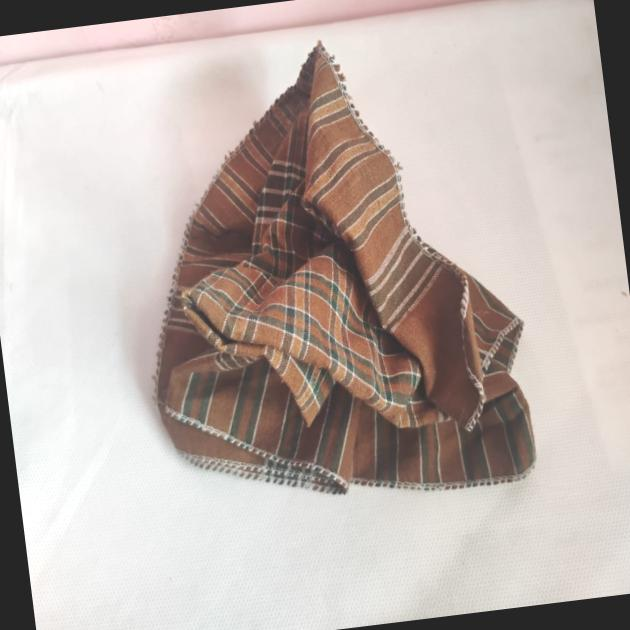kerchief: (58, 29, 528, 509)
